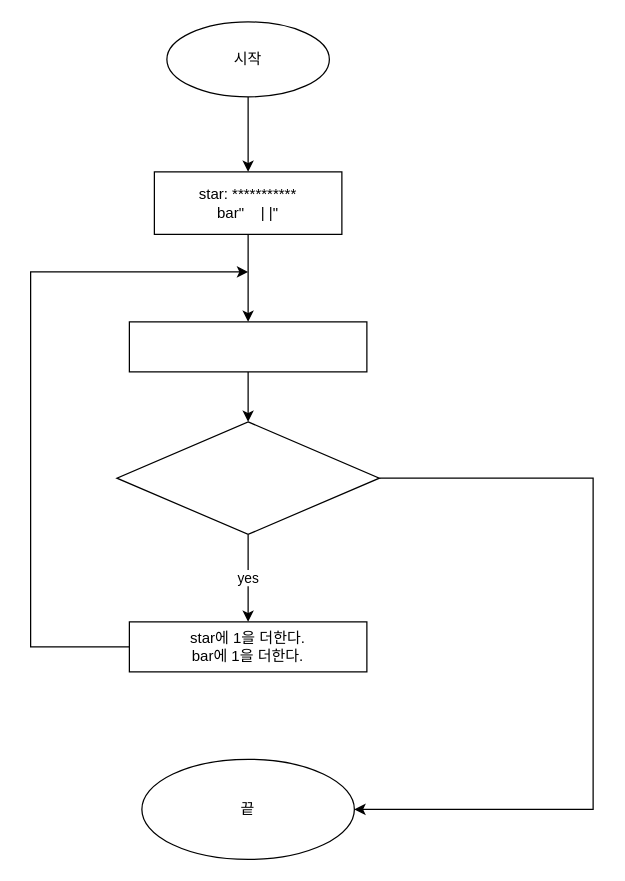
Some shapes in this 625 by 881 pixel diagram are drawn without their labels. The shapes that lost their labels are listed below. From the top down, each one's centre as x and y in pixels, then its label:
(x=247, y=346): "\(star)", "\("bar") 출력
(x=247, y=477): star가 10보다 작은가? bar가 4보다 작은가?
